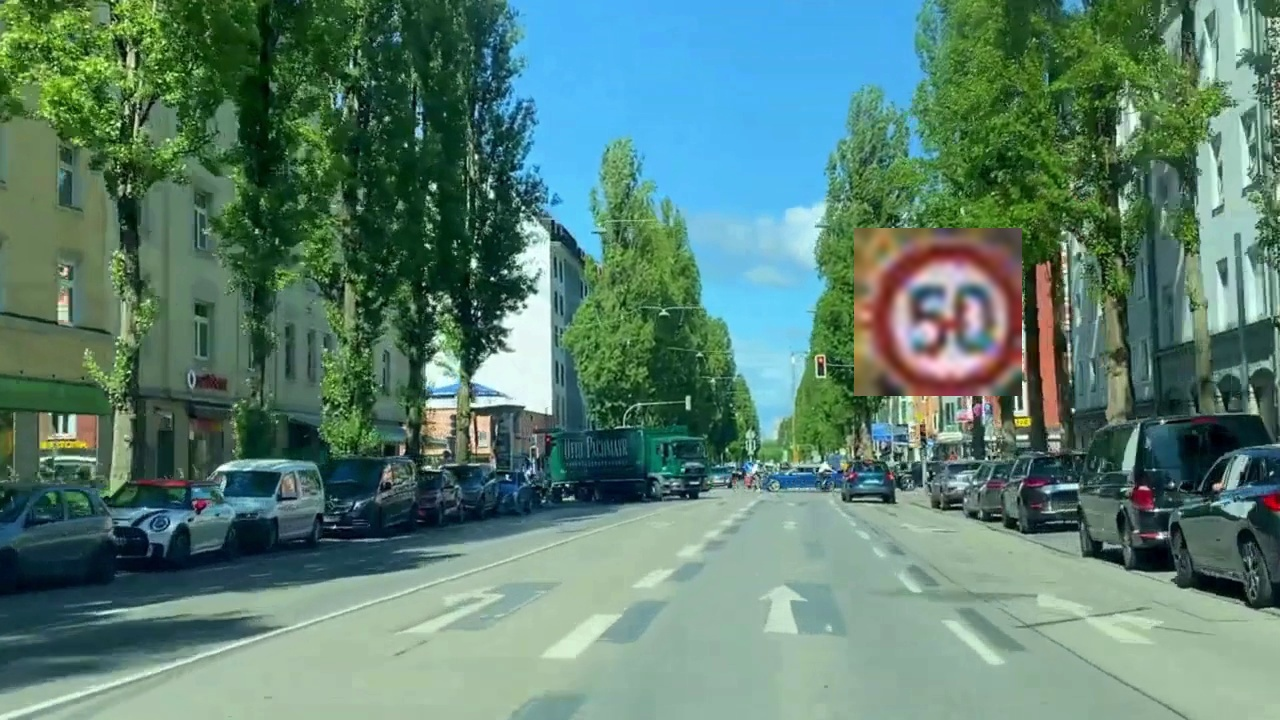Speed 50: (854, 228, 1022, 396)
